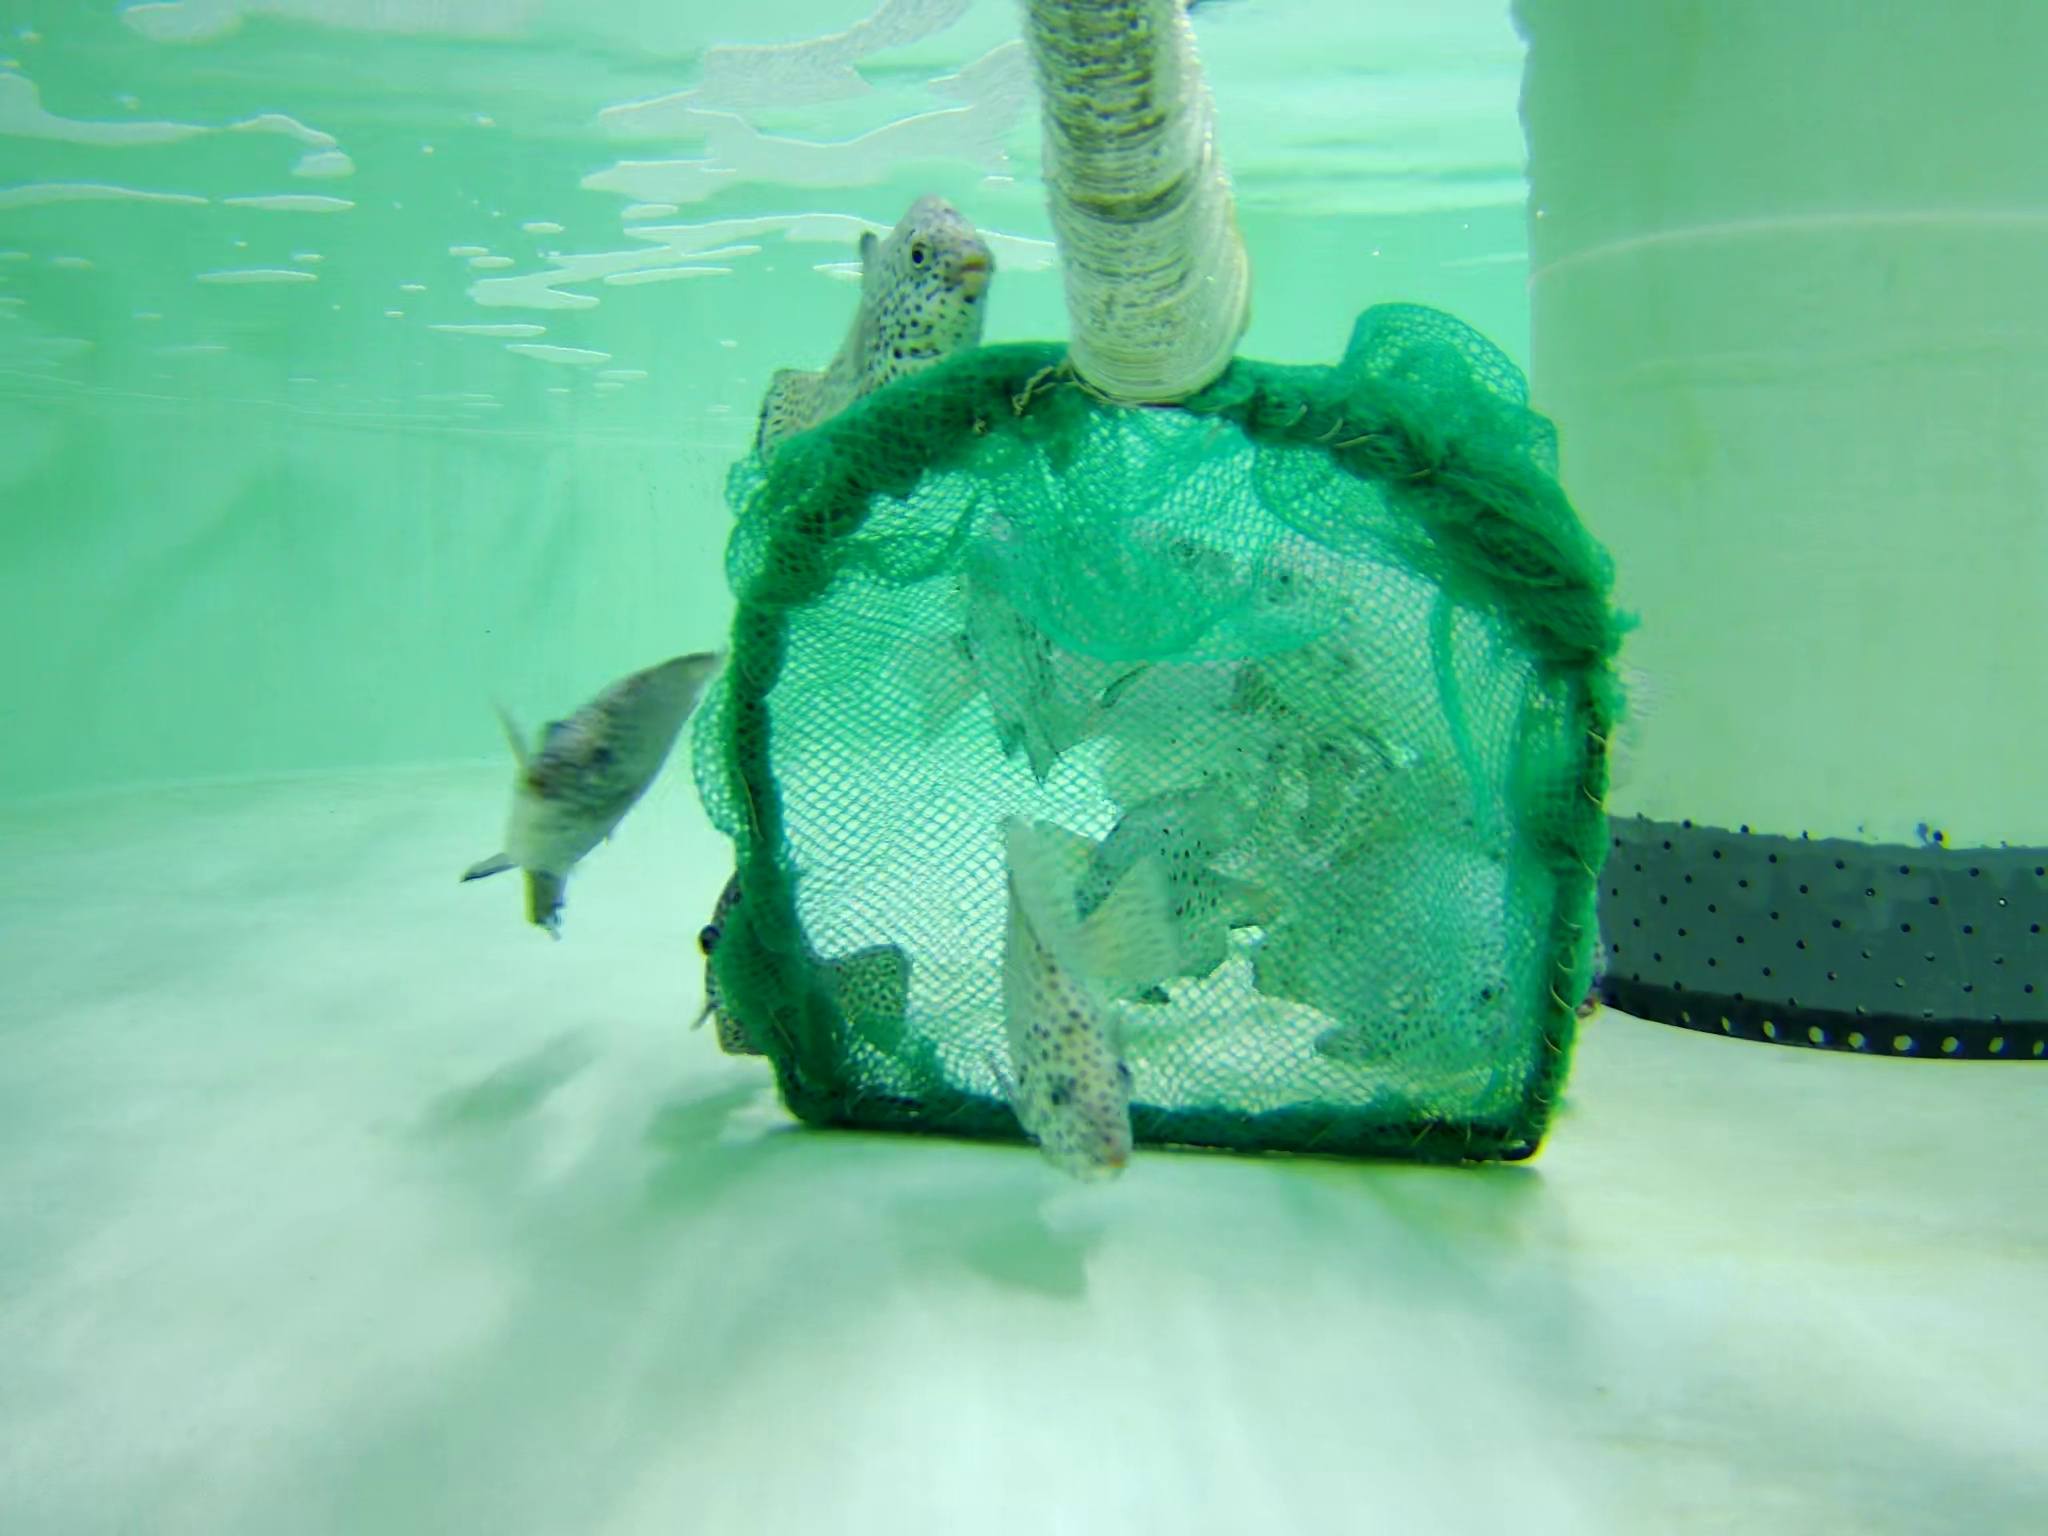fish: (476, 645, 735, 939), (932, 511, 1230, 765), (1266, 834, 1571, 1062), (721, 197, 998, 439), (1064, 762, 1285, 978), (990, 878, 1138, 1187), (695, 862, 913, 1071), (1250, 520, 1359, 787)
